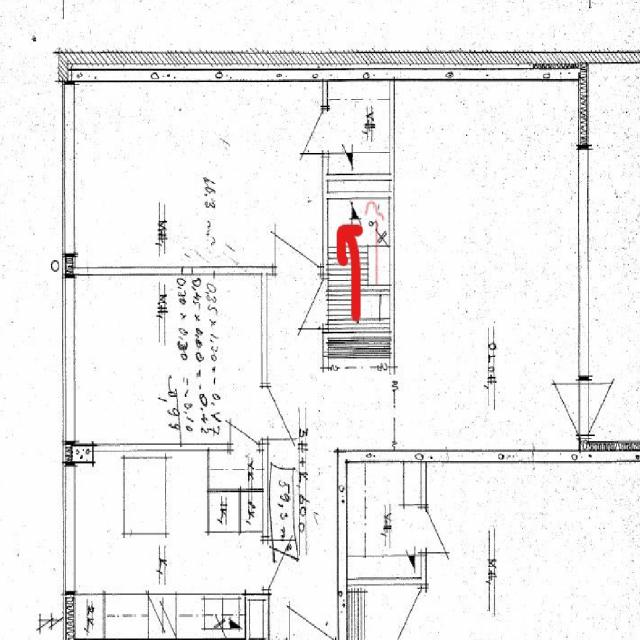door: (578, 382, 632, 436), (289, 579, 336, 640), (536, 382, 589, 436), (275, 210, 319, 273), (263, 387, 309, 438), (284, 279, 328, 328), (262, 540, 306, 588), (286, 108, 328, 154), (230, 408, 258, 450)
